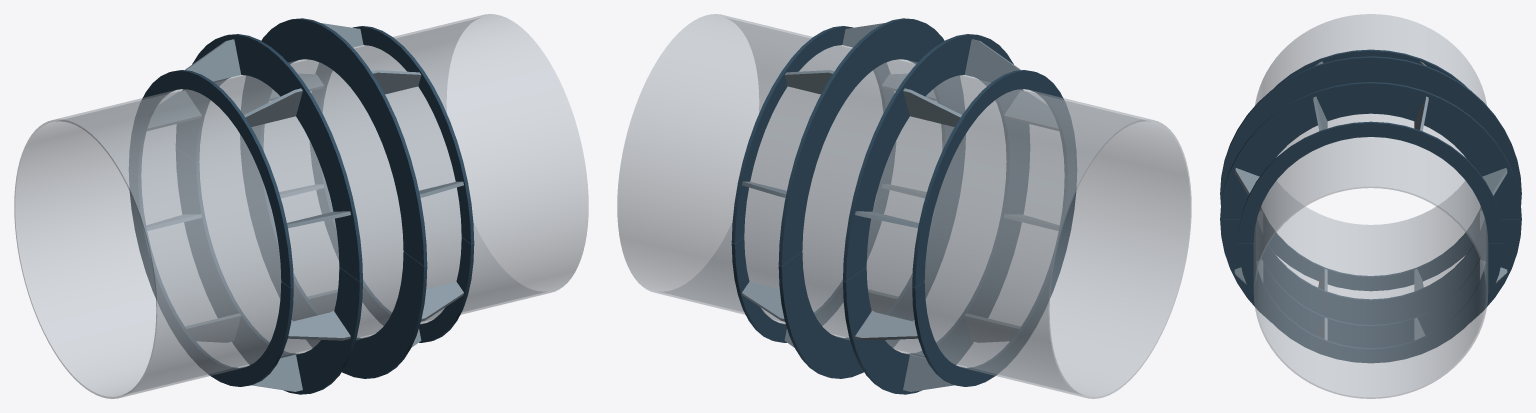
The model's file is TS-667.00.00-07-opora-dn1220-D1570.glb.
3 views of the same model, side by side, from view 1: azimuth 30°, elevation 25°; view 2: azimuth 150°, elevation 25°; view 3: azimuth 270°, elevation 25° (orthographic). The views are drawn at different scales.
Visible parts, largest first — view 1: truba, polukoltso_1, polukoltso_19, polukoltso_7, polukoltso_13, polukoltso_usil_12, polukoltso_usil_24, polukoltso_usil_6, polukoltso_usil_18, rebro_9, rebro_20, rebro_8 (+5 smaller); view 2: truba, polukoltso_1, polukoltso_19, polukoltso_7, polukoltso_13, polukoltso_usil_12, polukoltso_usil_24, polukoltso_usil_6, polukoltso_usil_18, rebro_10, rebro_23, rebro_11 (+5 smaller); view 3: truba, polukoltso_1, polukoltso_7, polukoltso_13, polukoltso_19, polukoltso_usil_6, polukoltso_usil_18, polukoltso_usil_24, polukoltso_usil_12, rebro_2, rebro_5, rebro_3 (+1 smaller).
Boxes of the visible parts, x1,y1,x2,y2 form: truba: [14, 14, 588, 398]; polukoltso_1: [241, 18, 427, 265]; polukoltso_19: [176, 148, 362, 394]; polukoltso_7: [176, 34, 362, 281]; polukoltso_13: [240, 135, 427, 378]; polukoltso_usil_12: [129, 70, 293, 287]; polukoltso_usil_24: [129, 170, 293, 386]; polukoltso_usil_6: [311, 26, 474, 243]; polukoltso_usil_18: [310, 142, 474, 342]; rebro_9: [184, 39, 241, 81]; rebro_20: [288, 311, 350, 340]; rebro_8: [147, 91, 201, 130]; truba: [617, 14, 1191, 398]; polukoltso_1: [778, 18, 964, 265]; polukoltso_19: [843, 148, 1029, 394]; polukoltso_7: [843, 34, 1029, 281]; polukoltso_13: [778, 135, 965, 378]; polukoltso_usil_12: [912, 70, 1076, 287]; polukoltso_usil_24: [912, 170, 1076, 386]; polukoltso_usil_6: [731, 26, 894, 243]; polukoltso_usil_18: [731, 142, 895, 342]; rebro_10: [964, 39, 1021, 81]; rebro_23: [855, 311, 917, 340]; rebro_11: [1004, 91, 1058, 130]; truba: [1253, 14, 1488, 398]; polukoltso_1: [1220, 82, 1521, 219]; polukoltso_7: [1220, 56, 1521, 193]; polukoltso_13: [1220, 219, 1521, 347]; polukoltso_19: [1220, 194, 1521, 324]; polukoltso_usil_6: [1238, 121, 1503, 242]; polukoltso_usil_18: [1238, 243, 1503, 363]; polukoltso_usil_24: [1260, 208, 1481, 291]; polukoltso_usil_12: [1273, 49, 1468, 88]; rebro_2: [1482, 168, 1507, 195]; rebro_5: [1234, 168, 1259, 195]; rebro_3: [1414, 96, 1428, 130].
Bounding box in the file's own units: 2124 × 1570 × 1570.
